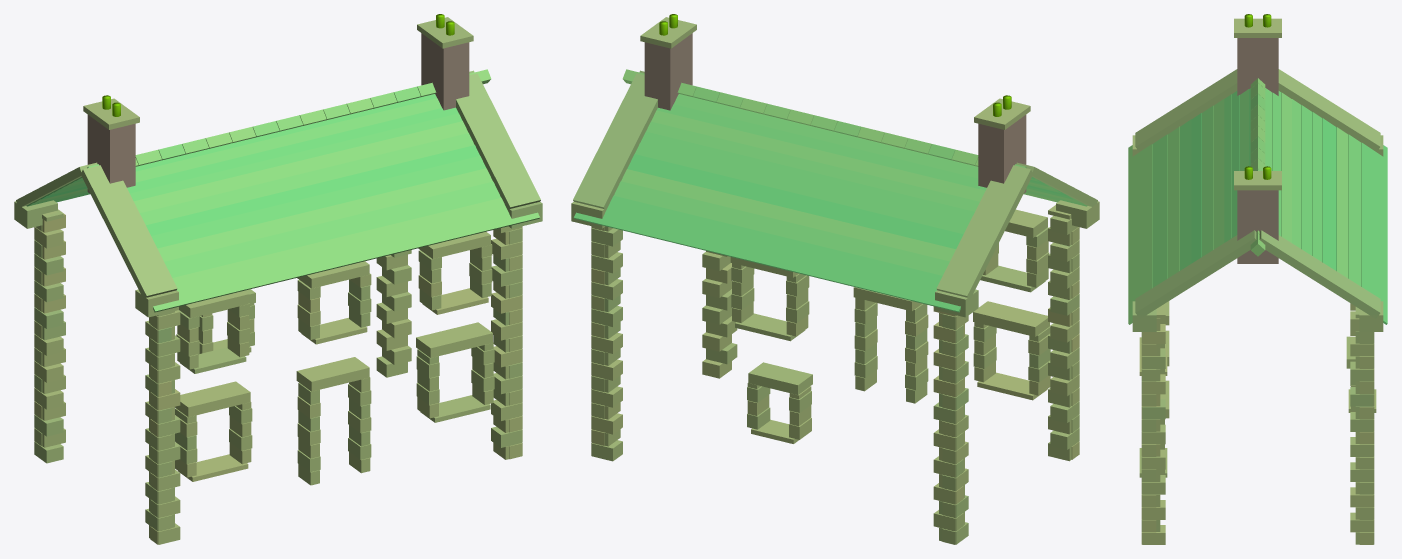
The model's file is SM_Bld_006_Stone.glb.
3 views of the same model, side by side, from view 1: azimuth 30°, elevation 25°; view 2: azimuth 150°, elevation 25°; view 3: azimuth 270°, elevation 25° (orthographic). The views are drawn at different scales.
Parts seen in each view (by area): view 1: SM_Bld_006_Stone; view 2: SM_Bld_006_Stone; view 3: SM_Bld_006_Stone.
Part boxes in pixels (x1,y1,x2,y2): SM_Bld_006_Stone: (14, 14, 542, 544); SM_Bld_006_Stone: (571, 14, 1099, 544); SM_Bld_006_Stone: (1128, 14, 1387, 544).
Size of the model in its own units: 9.5 by 8.83 by 5.61.
